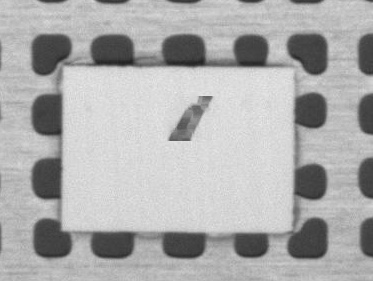DIE_INK: (214, 69, 293, 109)
